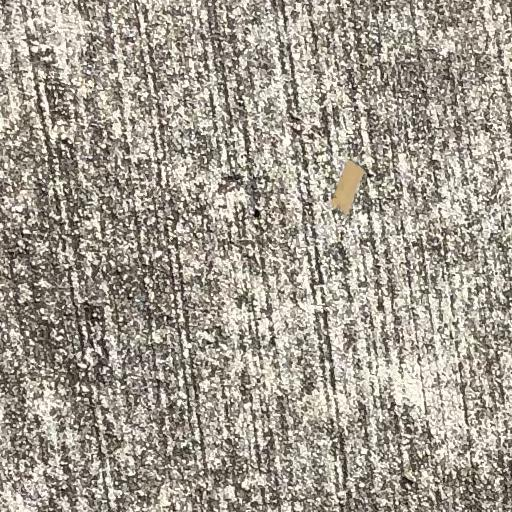smoke: (332, 161, 364, 215)
